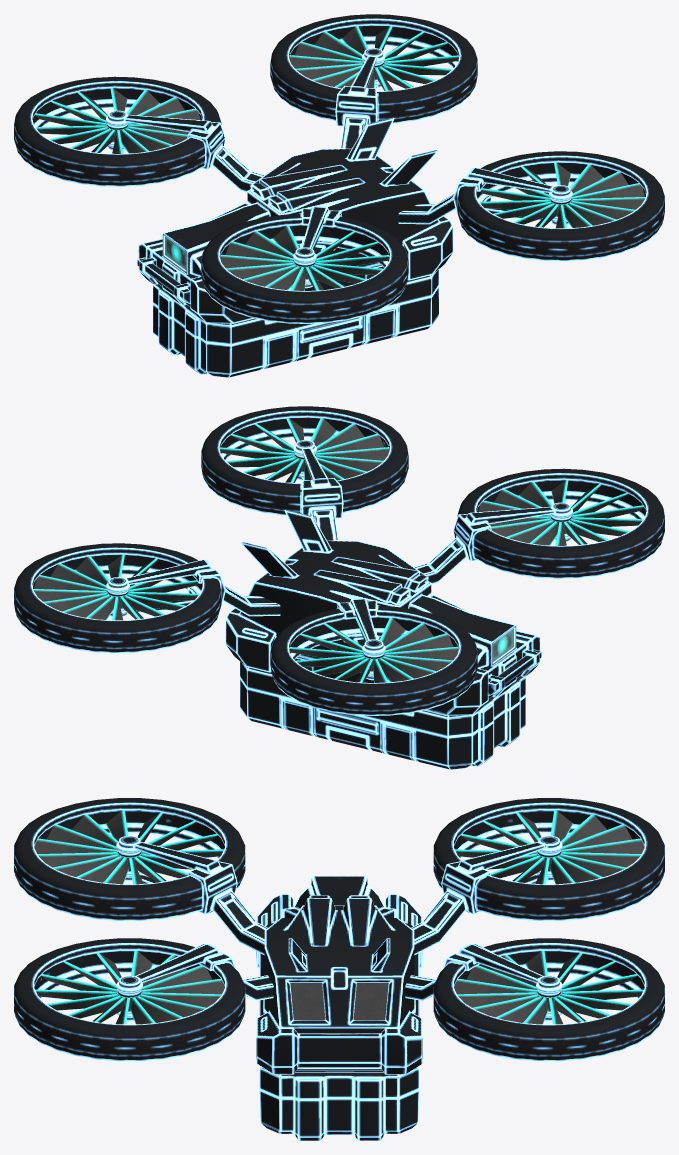
Rendered from Delivery drone.fbx.
3 views of the same model, one above another, from view 1: azimuth 30°, elevation 25°; view 2: azimuth 150°, elevation 25°; view 3: azimuth 270°, elevation 25° (orthographic). The views are drawn at different scales.
Visible parts, largest first — view 1: Main_Low, Screw_Low, Box_Low; view 2: Main_Low, Screw_Low, Box_Low; view 3: Main_Low, Screw_Low, Box_Low.
Part boxes in pixels (bbox=[...]): Main_Low: bbox=[14, 14, 664, 323]; Screw_Low: bbox=[35, 26, 645, 290]; Box_Low: bbox=[153, 270, 438, 377]; Main_Low: bbox=[14, 406, 664, 715]; Screw_Low: bbox=[33, 418, 643, 682]; Box_Low: bbox=[240, 662, 525, 769]; Main_Low: bbox=[14, 798, 664, 1074]; Screw_Low: bbox=[34, 810, 644, 1024]; Box_Low: bbox=[259, 1066, 419, 1140].
Bounding box in the file's own units: 95.09 × 36.93 × 110.
